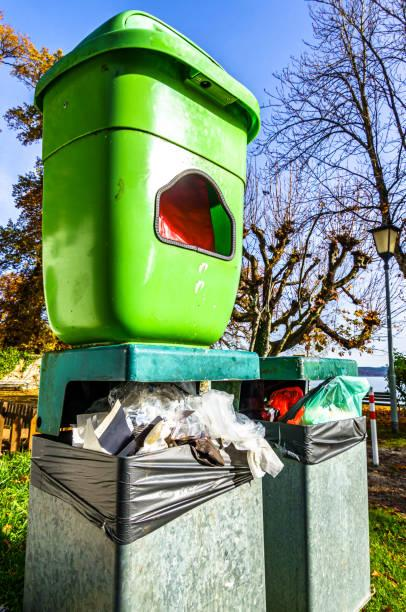trash: (77, 373, 254, 464), (251, 371, 368, 433)
trash_can_overflow: (4, 306, 272, 612), (242, 319, 393, 612)
